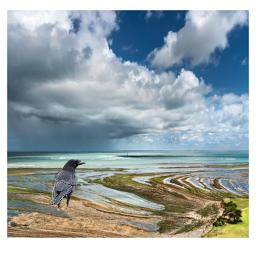Crow: (49, 159, 86, 211)
